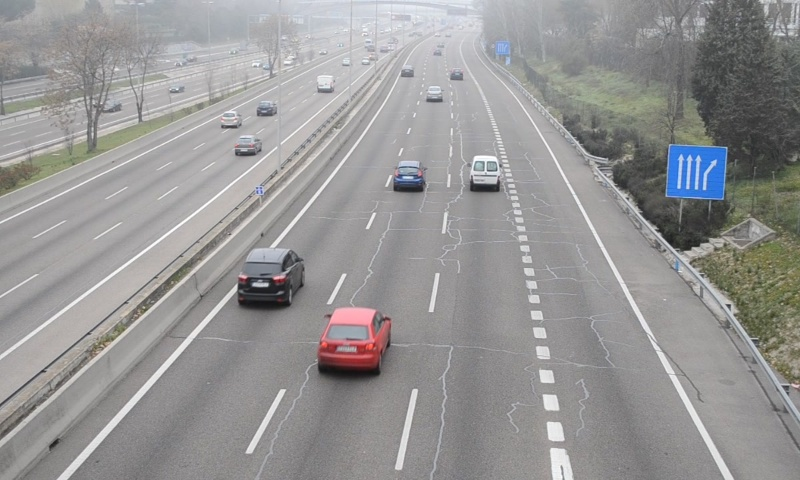car: (318, 308, 388, 372), (238, 247, 302, 306), (394, 159, 424, 189), (425, 84, 444, 101)
van: (469, 154, 501, 190)
